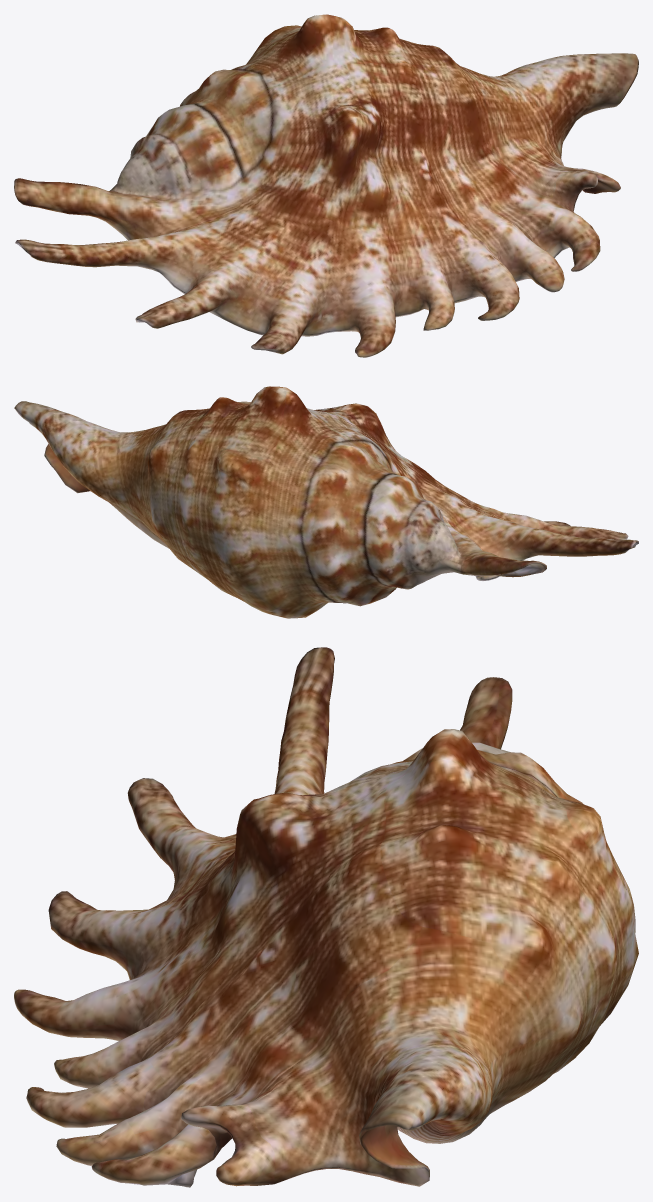
Rendered from lambis_shell.glb.
3 renders of one model, top to bottom at view 1: azimuth 30°, elevation 25°; view 2: azimuth 150°, elevation 25°; view 3: azimuth 270°, elevation 25°, orthographic. The views are drawn at different scales.
Visible parts, largest first — view 1: lambis_shell; view 2: lambis_shell; view 3: lambis_shell.
Boxes of the visible parts, x1,y1,x2,y2 form: lambis_shell: [14, 14, 638, 357]; lambis_shell: [14, 386, 638, 618]; lambis_shell: [14, 647, 638, 1187].
Bounding box in the file's own units: 0.1395 × 0.0465 × 0.0745.
Materials: 1 (1 with a texture image).
